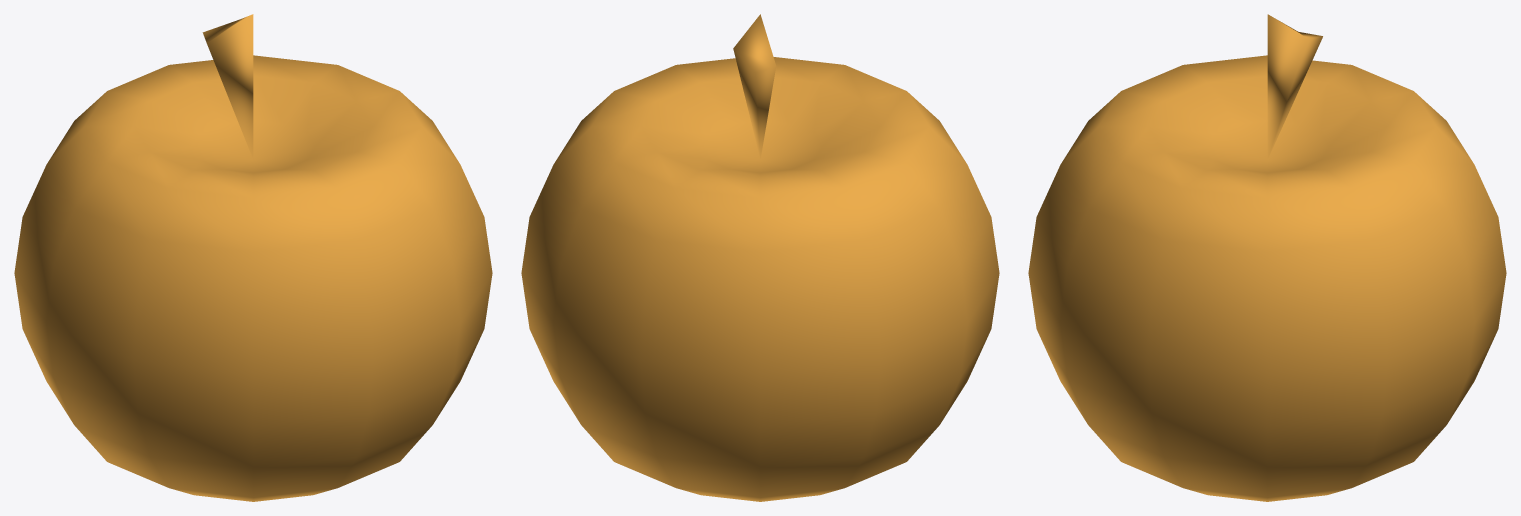
Rendered from Gold appel.fbx.
3 views of the same model, side by side, from view 1: azimuth 30°, elevation 25°; view 2: azimuth 150°, elevation 25°; view 3: azimuth 270°, elevation 25° (orthographic).
Visible parts, largest first — view 1: Sphere; view 2: Sphere; view 3: Sphere.
Boxes of the visible parts, x1,y1,x2,y2 form: Sphere: [14, 14, 492, 501]; Sphere: [521, 14, 999, 501]; Sphere: [1028, 14, 1506, 501].
Size of the model in its own units: 200 by 202 by 200.
